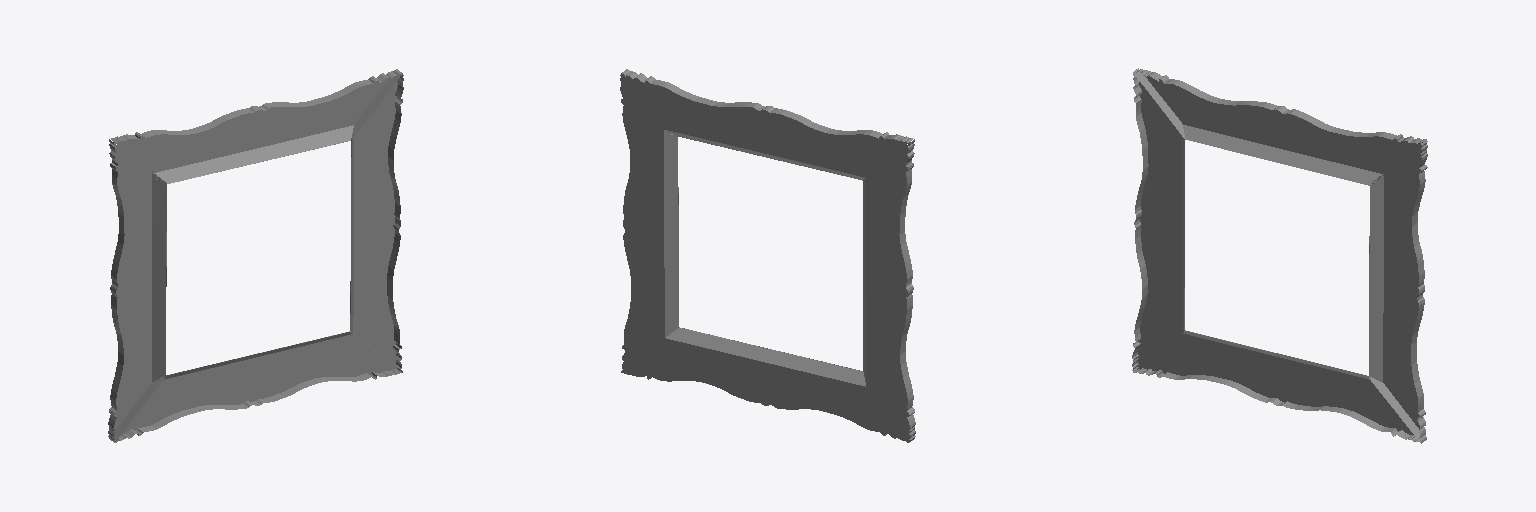
Rendered from bigframe2.obj.
3 renders of one model, left to right at view 1: azimuth 30°, elevation 25°; view 2: azimuth 150°, elevation 25°; view 3: azimuth 330°, elevation 25°, orthographic.
Visible parts, largest first — view 1: bigframe2_Mesh.001; view 2: bigframe2_Mesh.001; view 3: bigframe2_Mesh.001.
Part boxes in pixels (x1,y1,x2,y2): bigframe2_Mesh.001: (108, 69, 403, 442); bigframe2_Mesh.001: (620, 69, 915, 442); bigframe2_Mesh.001: (1132, 68, 1427, 443).
Size of the model in its own units: 4.1 by 4.08 by 0.142.